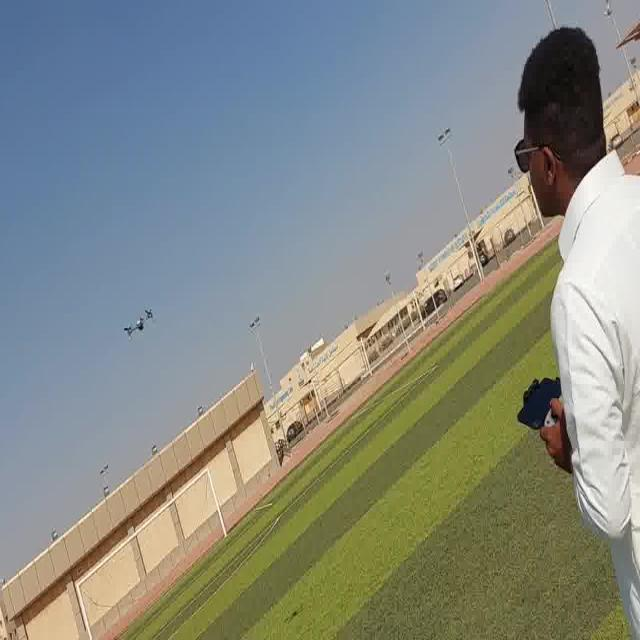drone: (116, 296, 156, 343)
